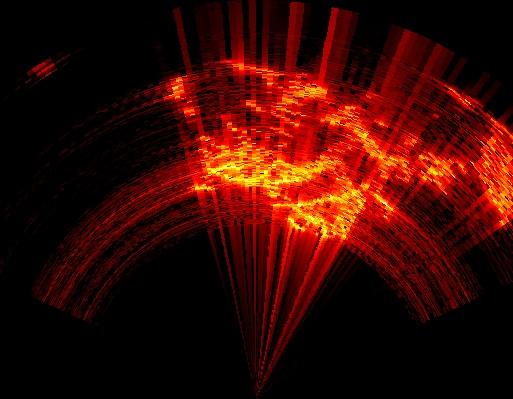shipwreck: (314, 104, 469, 190), (207, 117, 348, 198), (225, 60, 327, 132), (287, 177, 394, 238), (471, 128, 512, 231)
